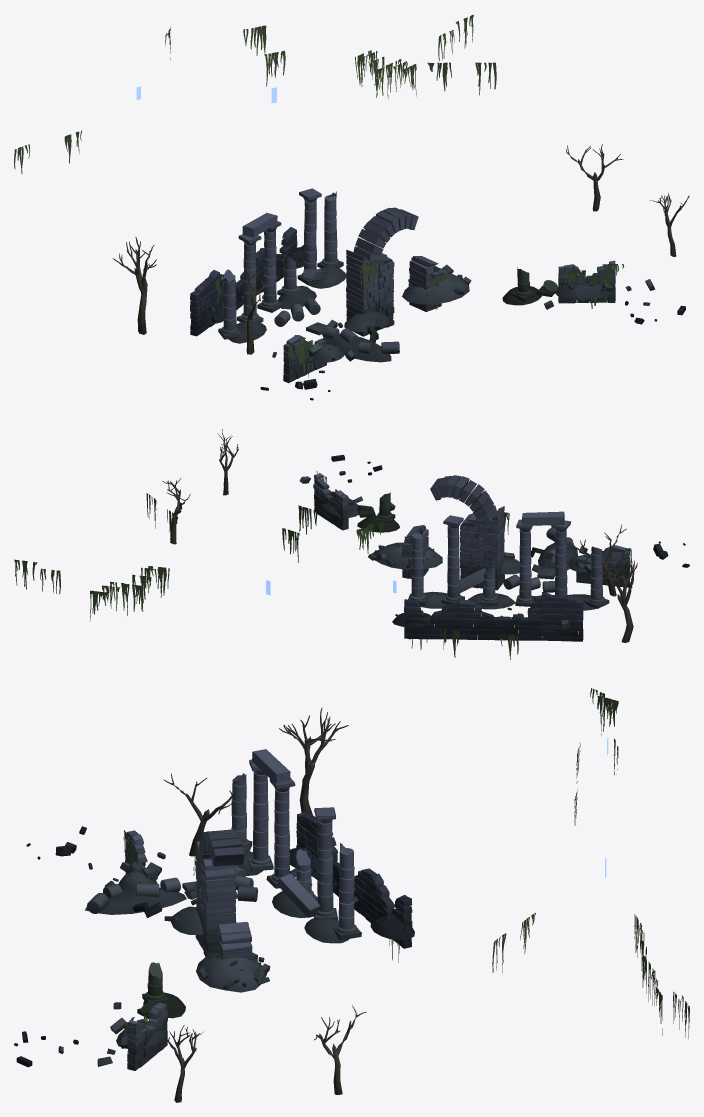
File: ruins-near.glb
3 views of the same model, one above another, from view 1: azimuth 30°, elevation 25°; view 2: azimuth 150°, elevation 25°; view 3: azimuth 270°, elevation 25° (orthographic). The views are drawn at different scales.
Visible parts, largest first — view 1: colonnade_007, arch_c_006, ivy_017, cella_008, deadtrees_016, wall_nr_003, wall_nl_001, drums_nl_002, stump_nr_004; view 2: colonnade_007, cella_008, arch_c_006, ivy_017, deadtrees_016, wall_nr_003, wall_nl_001, stump_nr_004, drums_nl_002, debris_c_005; view 3: colonnade_007, arch_c_006, cella_008, deadtrees_016, ivy_017, wall_nr_003, drums_nl_002, wall_nl_001, stump_nr_004, debris_c_005.
Part boxes in pixels (x1,y1,x2,y2): colonnade_007: [190, 188, 346, 343]; arch_c_006: [326, 207, 471, 336]; ivy_017: [14, 14, 624, 377]; cella_008: [190, 227, 304, 336]; deadtrees_016: [112, 144, 689, 354]; wall_nr_003: [544, 260, 655, 309]; wall_nl_001: [272, 335, 355, 383]; drums_nl_002: [306, 322, 399, 362]; stump_nr_004: [502, 267, 557, 305]; colonnade_007: [408, 511, 609, 630]; cella_008: [392, 592, 583, 641]; arch_c_006: [368, 475, 544, 590]; ivy_017: [14, 471, 631, 659]; deadtrees_016: [162, 429, 637, 642]; wall_nr_003: [299, 471, 395, 530]; wall_nl_001: [569, 545, 629, 587]; stump_nr_004: [357, 492, 399, 532]; drums_nl_002: [537, 528, 577, 579]; debris_c_005: [331, 454, 689, 567]; colonnade_007: [231, 749, 361, 943]; arch_c_006: [164, 829, 270, 992]; cella_008: [289, 812, 414, 948]; deadtrees_016: [161, 707, 366, 1102]; ivy_017: [121, 688, 689, 1053]; wall_nr_003: [58, 1002, 167, 1070]; drums_nl_002: [85, 877, 196, 914]; wall_nl_001: [88, 830, 165, 890]; stump_nr_004: [137, 962, 185, 1019]; debris_c_005: [14, 826, 162, 1067].
Bounding box in the file's own units: 46.39 × 17.9 × 44.22.
